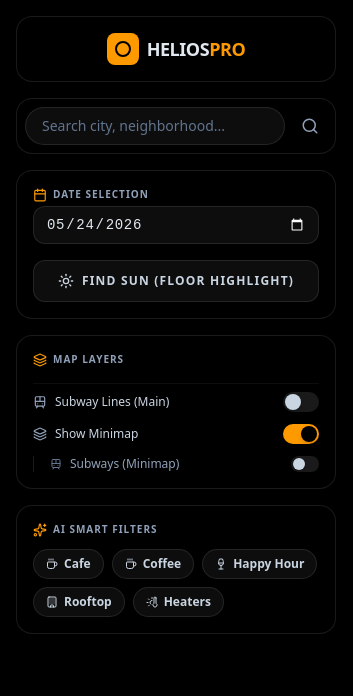
it: SearchOverlay component tests › performs OSM location searching and returns result selections
In the field with placeholder "Search city, neighborhood...": point(155, 126) top-left (25, 107), bottom-right (285, 145), type "Brooklyn"
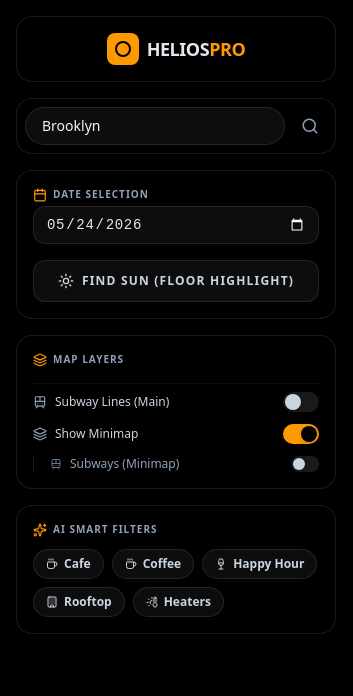
Submit the form with placeholder "Search city, neighborhood...", box top-left (17, 99), bottom-right (335, 153)
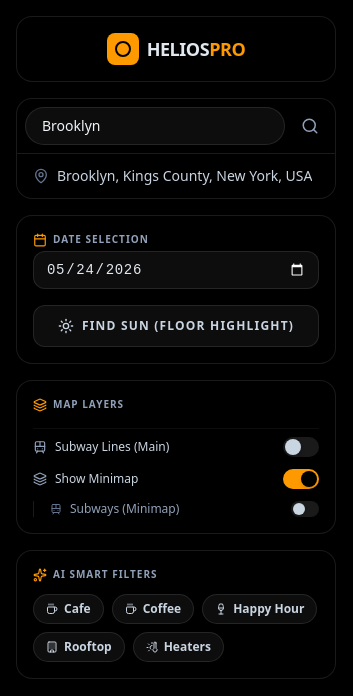
Now the text "Brooklyn, Kings County, New York, USA" is shown, box top-left (57, 166), bottom-right (312, 186)
Click the result item
Click the button "Brooklyn, Kings County, New York, USA": point(176, 176) top-left (17, 154), bottom-right (335, 198)
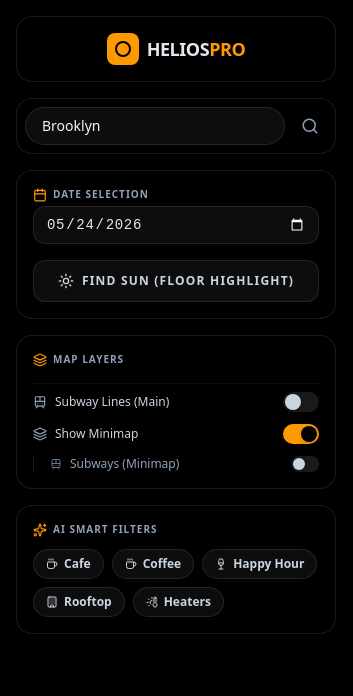
Now the button "Brooklyn, Kings County, New York, USA" is gone
